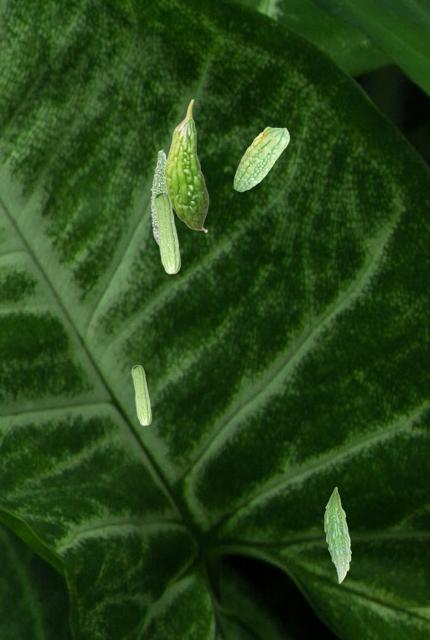ampalaya: (163, 99, 209, 233), (233, 126, 290, 192), (324, 486, 352, 584), (153, 191, 181, 274), (150, 148, 166, 244), (131, 364, 152, 426)
